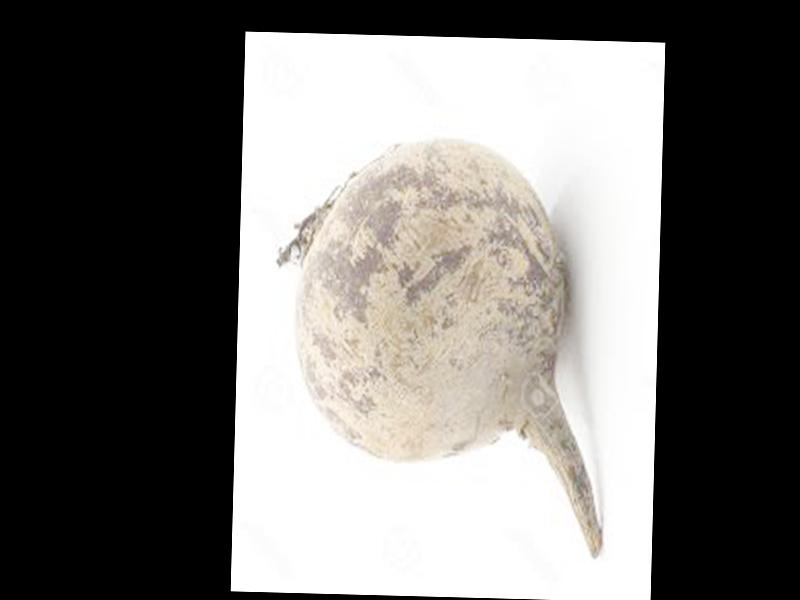Beet: (269, 133, 611, 555)
